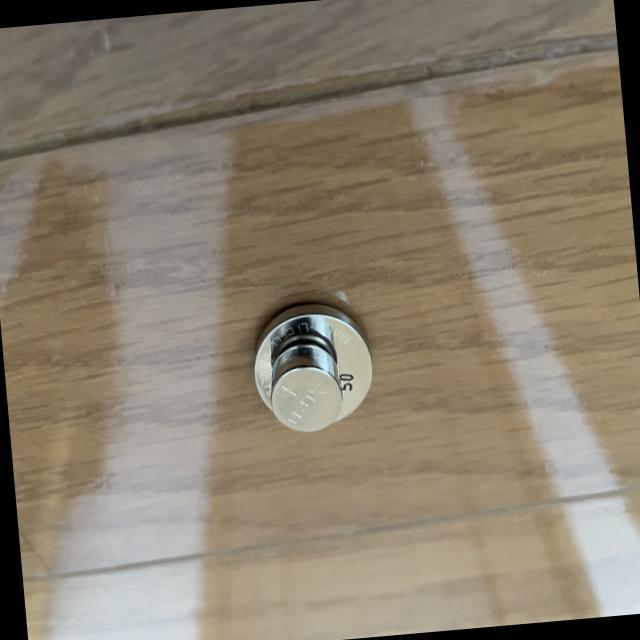COIN: (244, 295, 380, 435), (263, 339, 345, 435)
